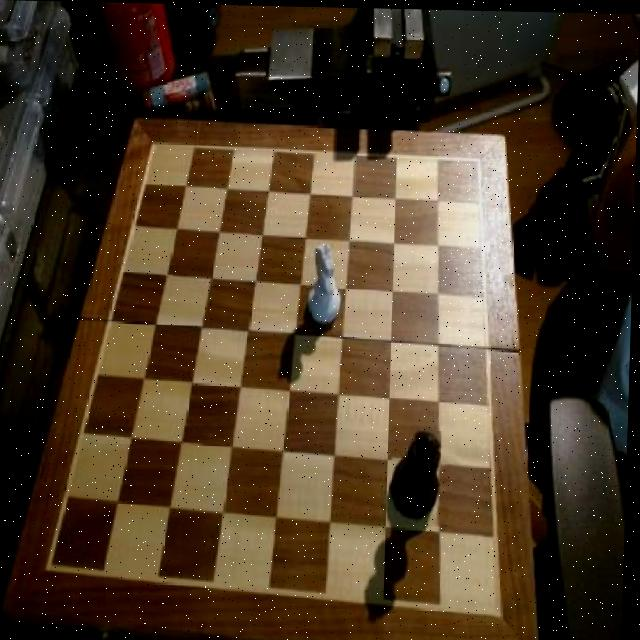black-pawn: (391, 424, 449, 523)
white-king: (310, 239, 349, 325)
